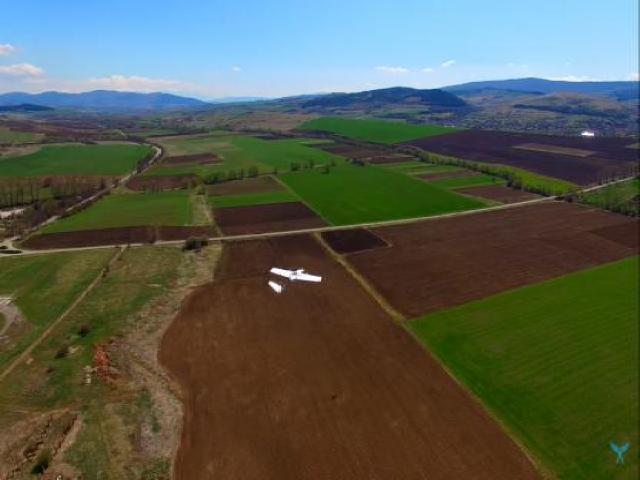uav: (264, 254, 324, 302)
